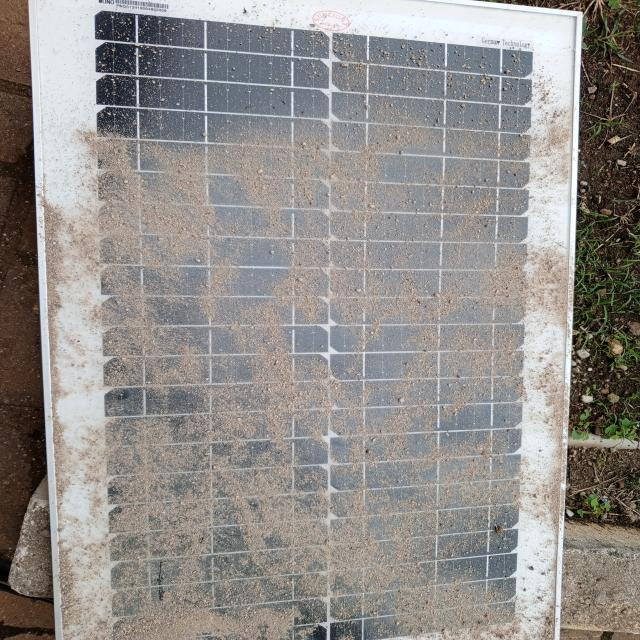Surface Contaminant: (69, 21, 553, 639)
